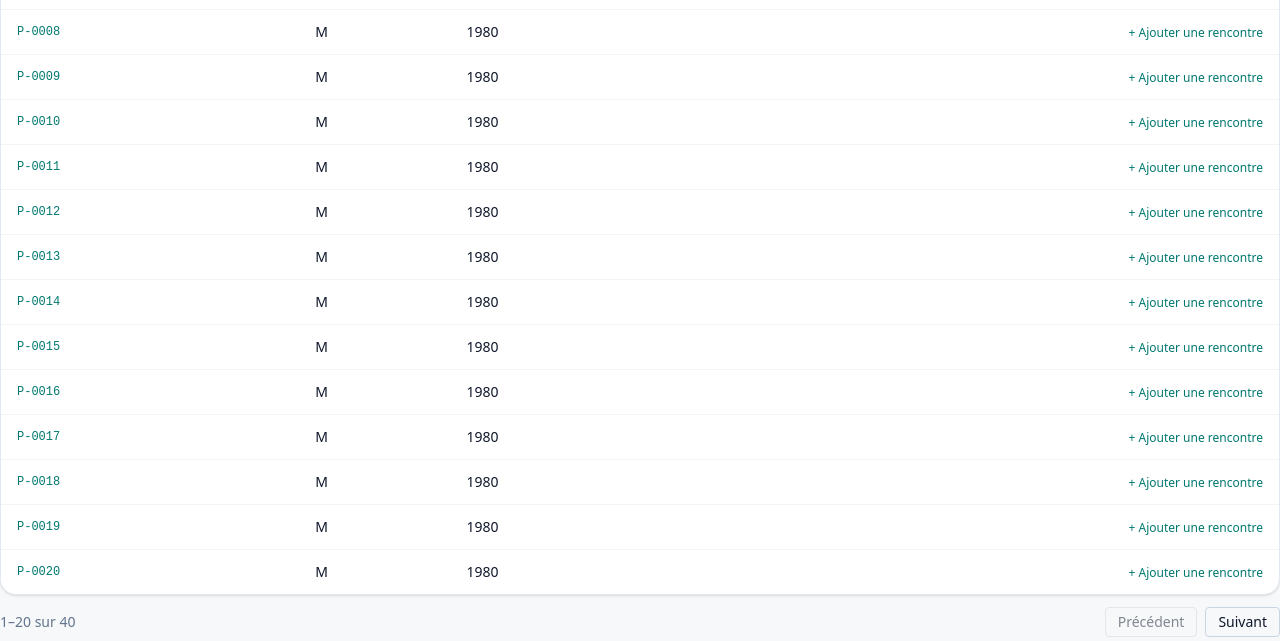
BaseHome (liste patients) › la recherche par code est resolue par le serveur, au-dela de la page affichee
(page scrolled)
Click the button "Suivant" at (1243,622), box [1205, 607, 1279, 637]
(page scrolled)
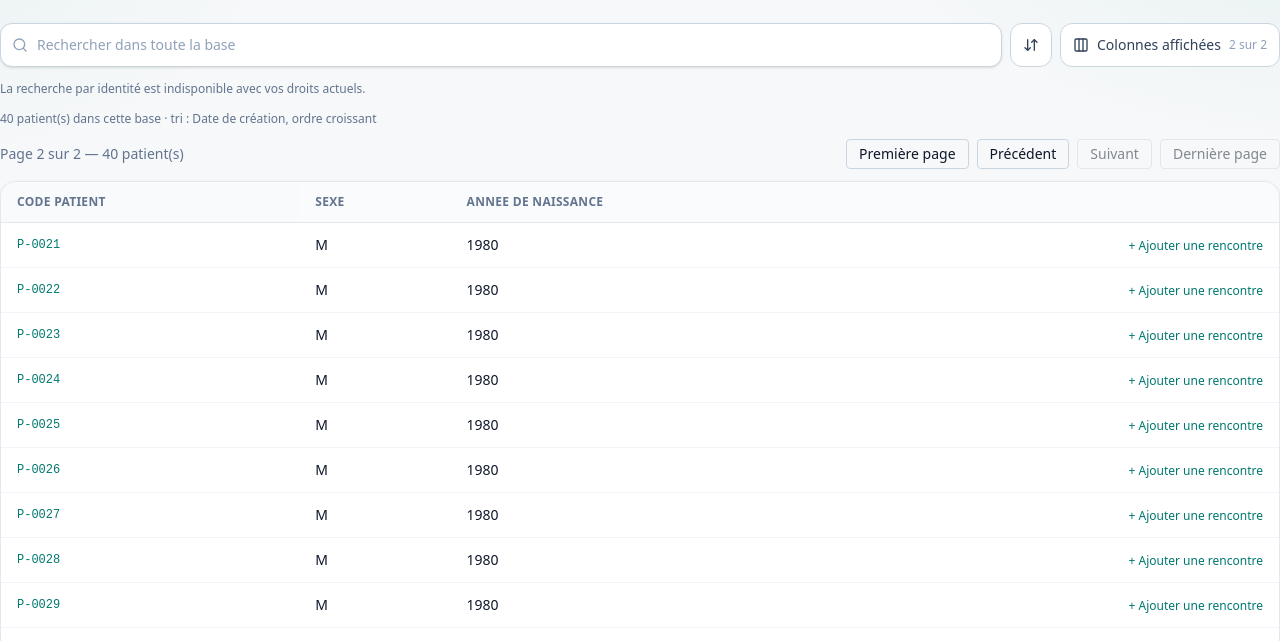
expect the button "P-0021" is shown: met, box [17, 237, 60, 253]
Type "P-0099" into the search field named "Rechercher un patient" at (501,45), box [0, 23, 1002, 67]
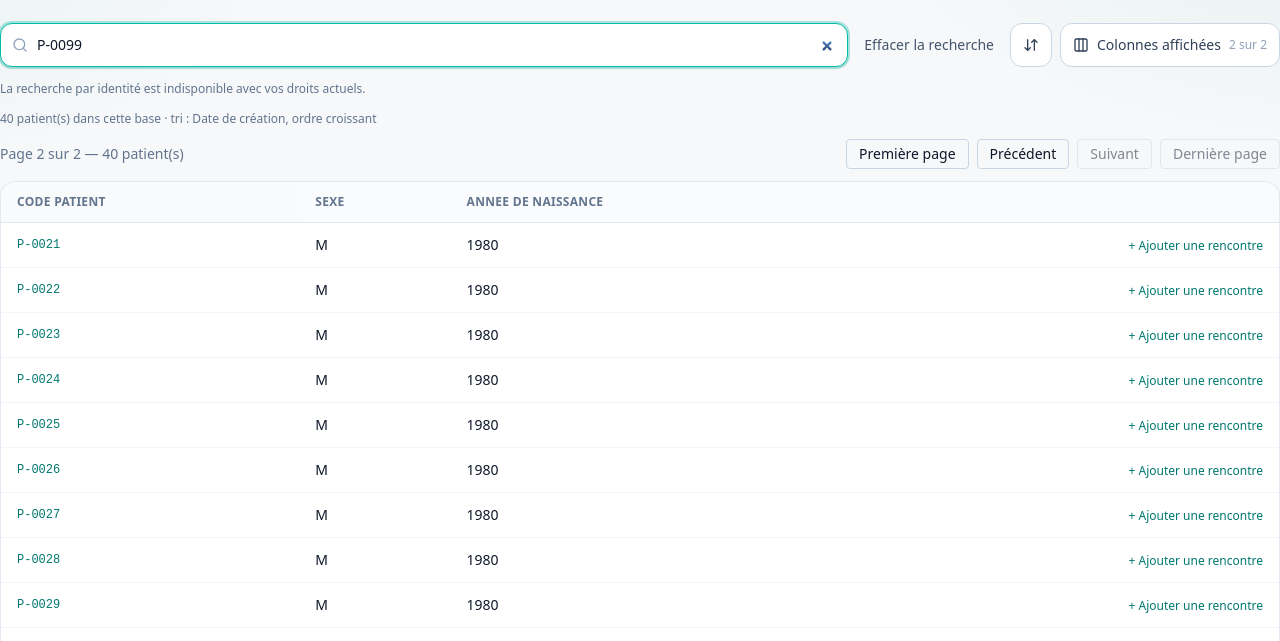
Press Enter
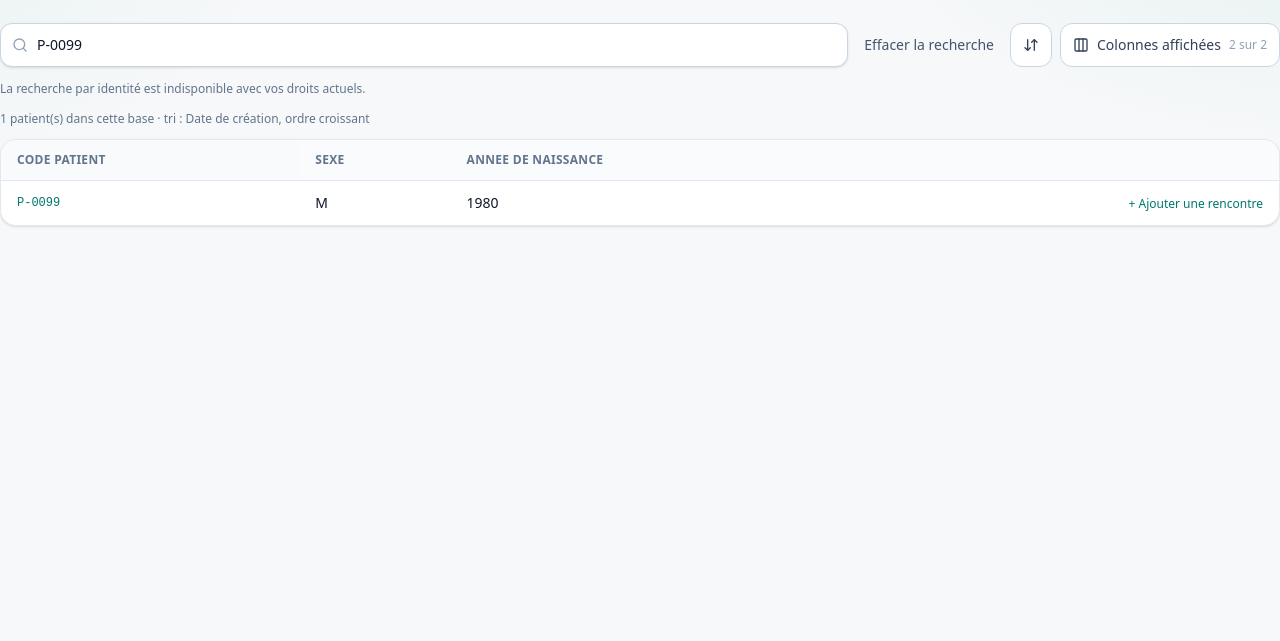
expect the text "La recherche par identité est indisponible" is shown: met, box [0, 80, 366, 97]
expect the button "P-0099" is shown: met, box [17, 195, 60, 211]
expect the button "P-0021" is gone: met
